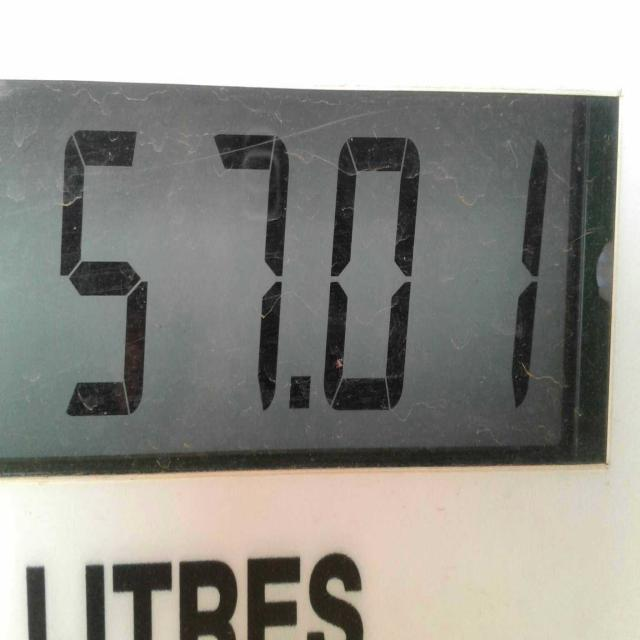.: (278, 358, 322, 430)
0: (316, 115, 425, 419)
1: (462, 120, 562, 414)
5: (46, 110, 163, 426)
7: (192, 118, 298, 414)
